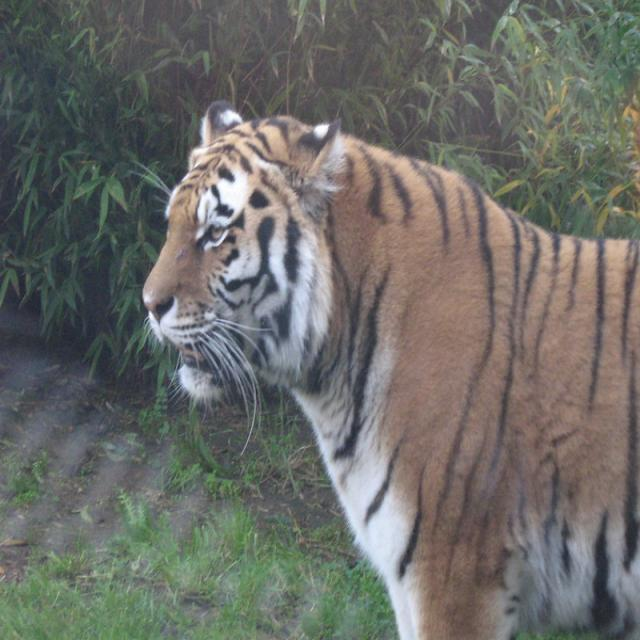Tiger: (138, 90, 639, 634)
